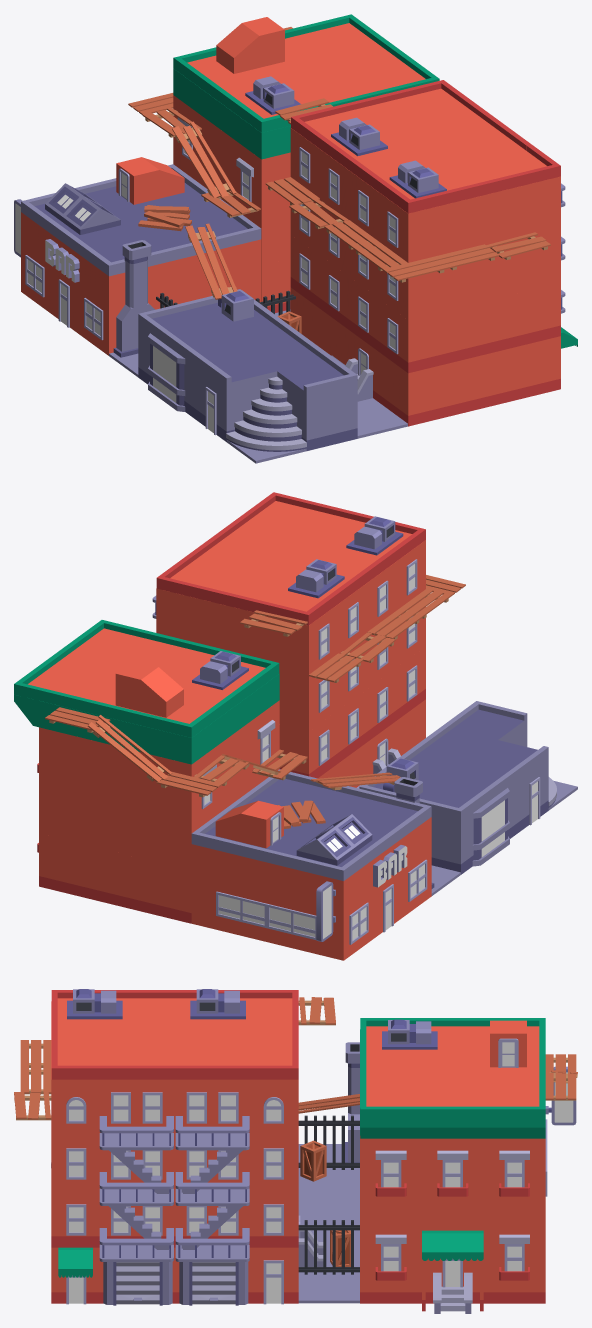
The model's file is CityBlock_002.fbx.
3 views of the same model, one above another, from view 1: azimuth 30°, elevation 25°; view 2: azimuth 150°, elevation 25°; view 3: azimuth 270°, elevation 25° (orthographic). The views are drawn at different scales.
Visible parts, largest first — view 1: mergedBlocks; view 2: mergedBlocks; view 3: mergedBlocks.
Boxes of the visible parts, x1,y1,x2,y2 form: mergedBlocks: [14, 14, 577, 463]; mergedBlocks: [14, 492, 577, 960]; mergedBlocks: [14, 989, 577, 1313].
Size of the model in its own units: 333 by 226 by 457.
